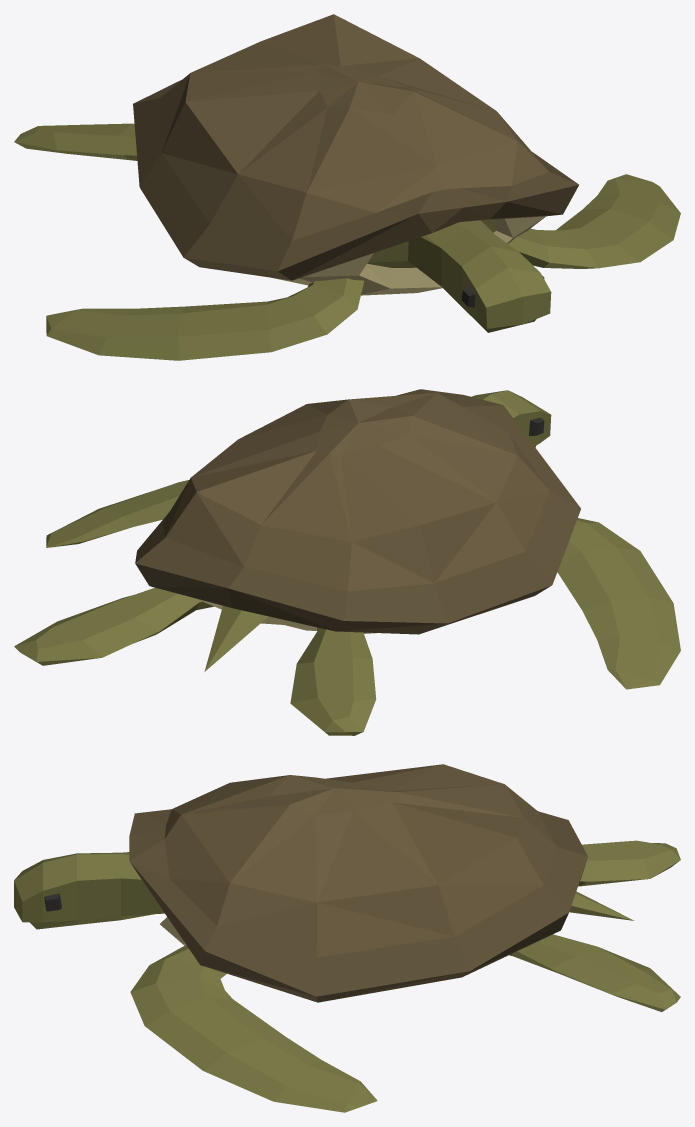
Rendered from Turtle.fbx.
3 views of the same model, one above another, from view 1: azimuth 30°, elevation 25°; view 2: azimuth 150°, elevation 25°; view 3: azimuth 270°, elevation 25° (orthographic). The views are drawn at different scales.
Parts seen in each view (by area): view 1: Turtle; view 2: Turtle; view 3: Turtle.
Part boxes in pixels (<box>): Turtle: <box>14,14,680,360</box>; Turtle: <box>14,389,680,735</box>; Turtle: <box>14,764,680,1112</box>.
Bounding box in the file's own units: 112 × 32.3 × 108.
